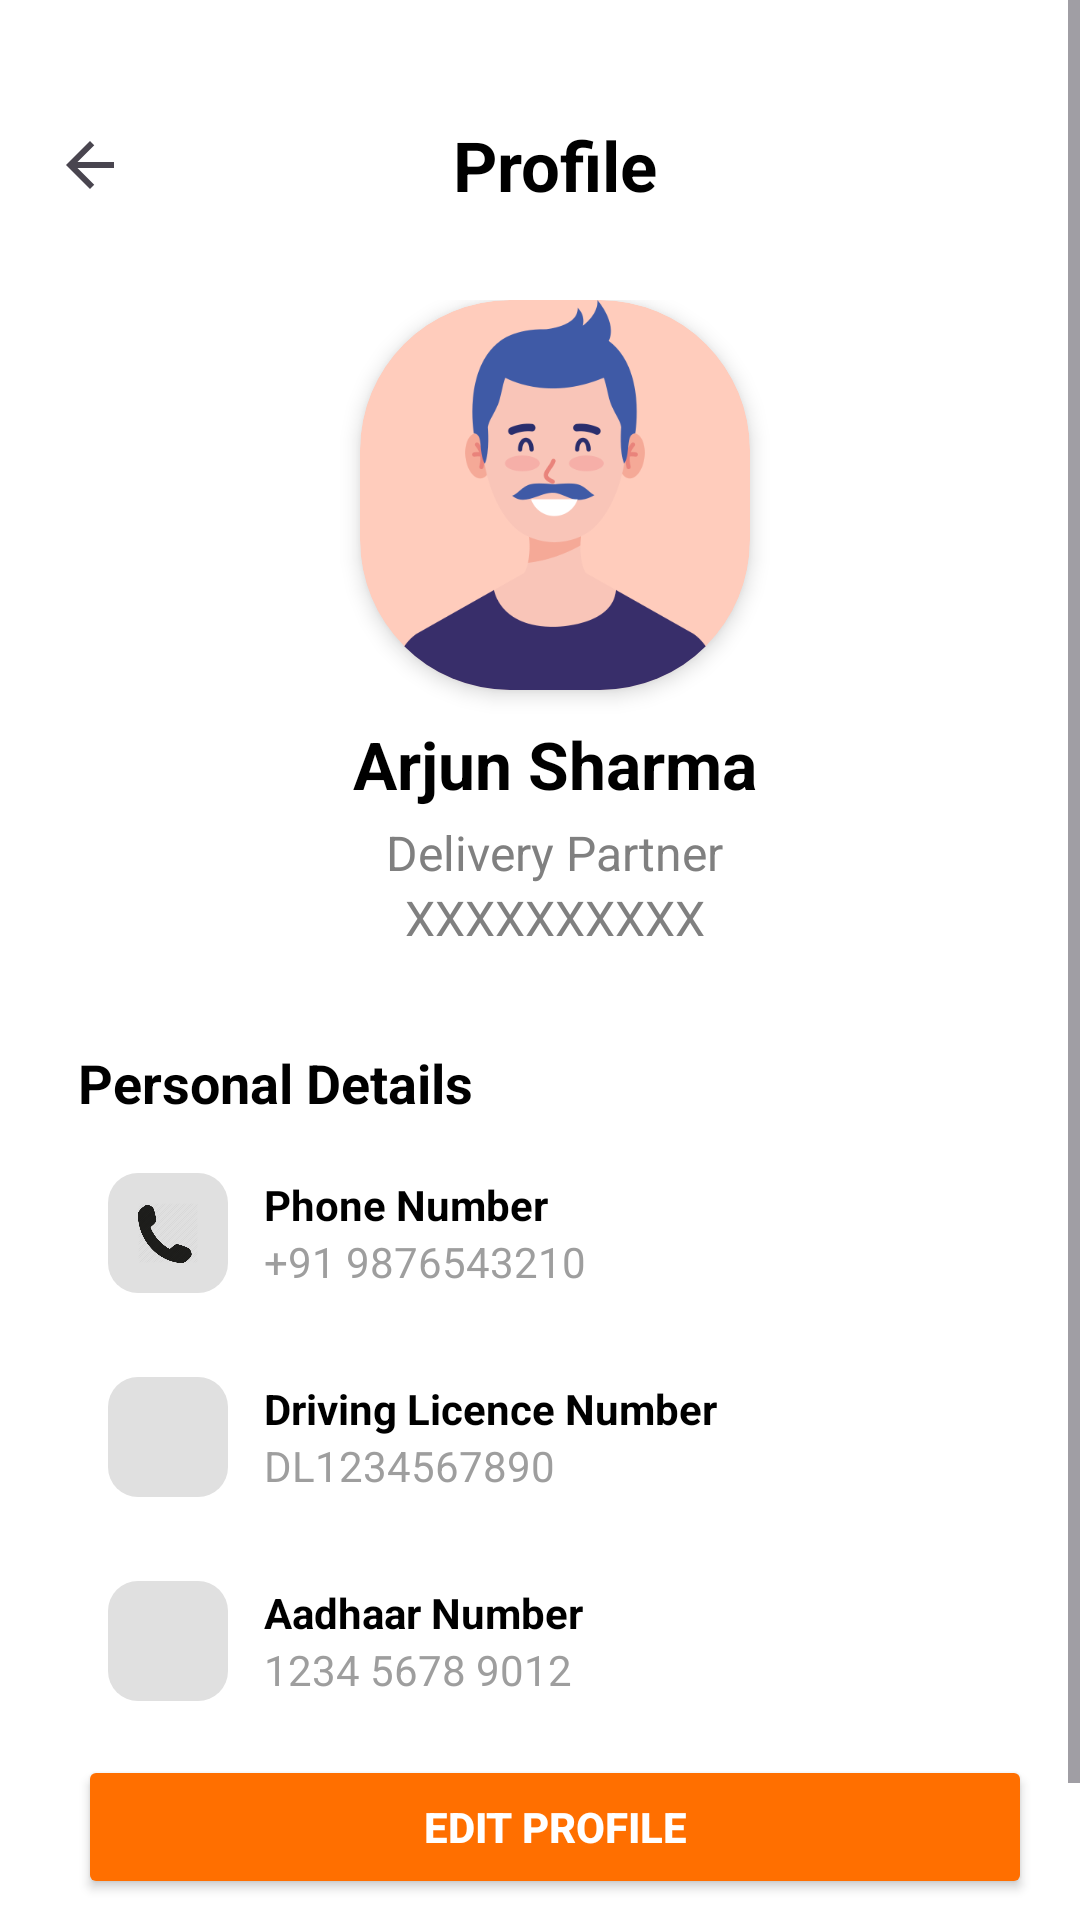

Named icons in this screenshot (1080 × 1920) and their centers, (x=x, y=y):
arrow back: (x=90, y=165)
nphone: (x=168, y=1233)
